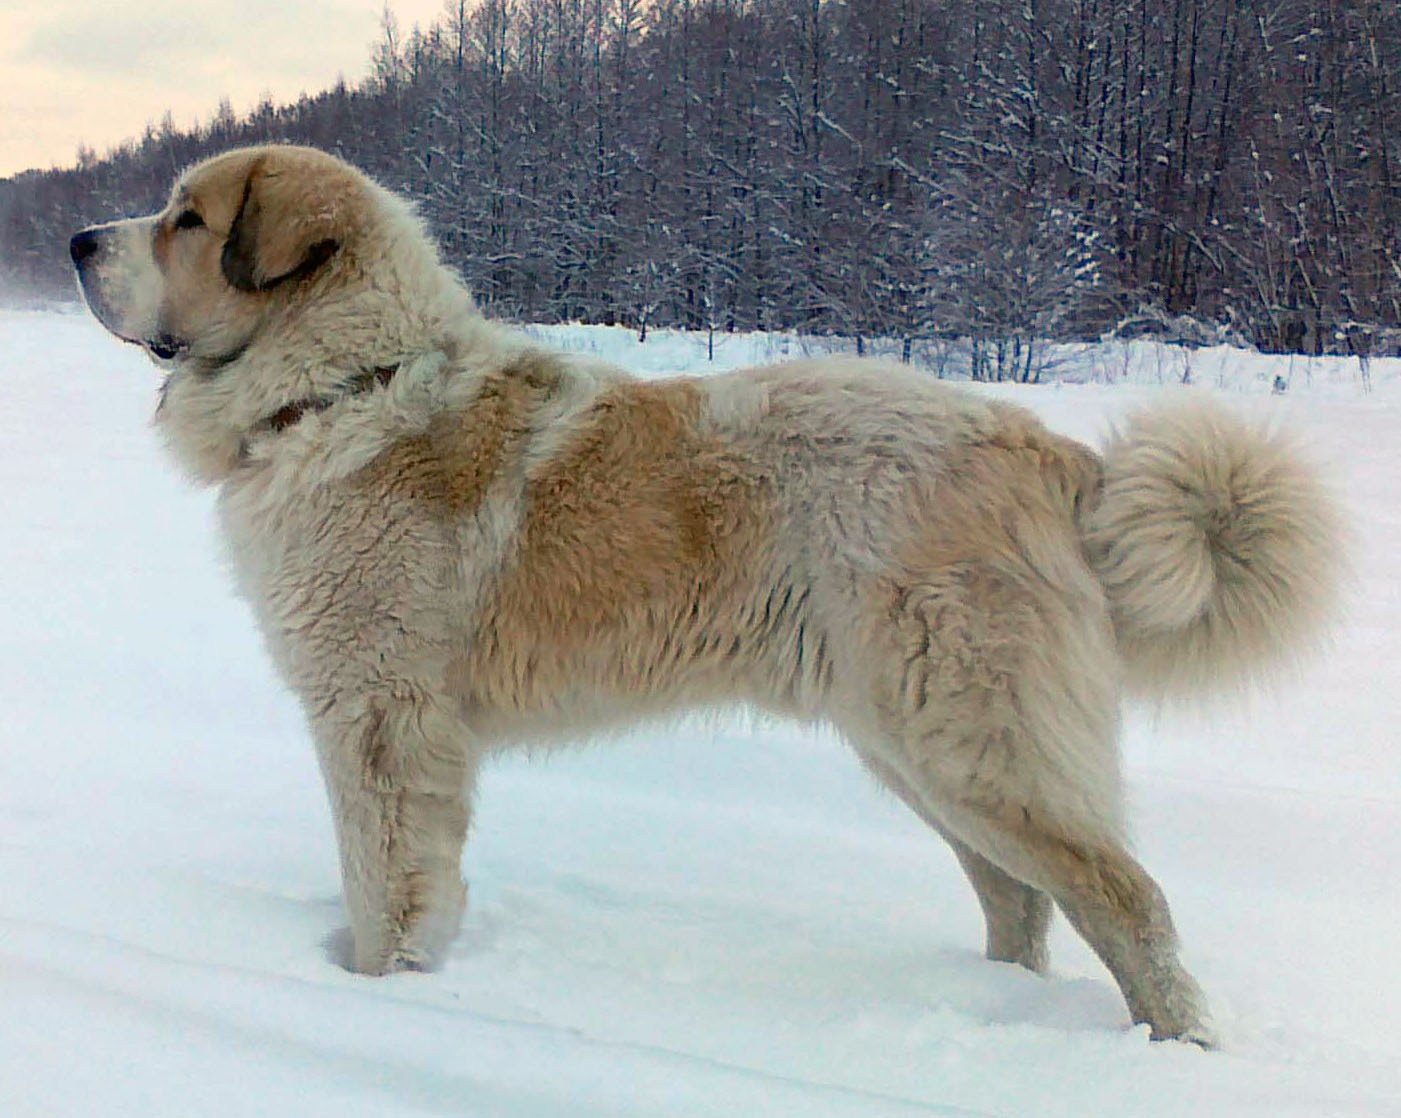other_dog_breed: (66, 143, 1358, 1050)
